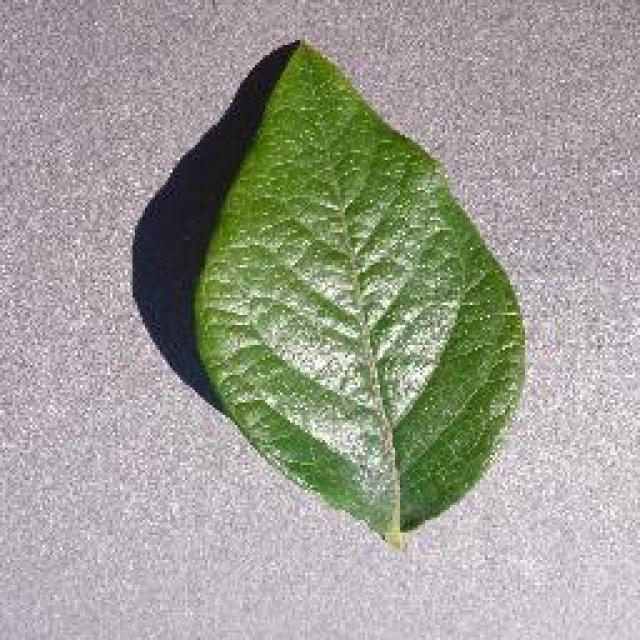Blu_healthy: (210, 124, 492, 481)
